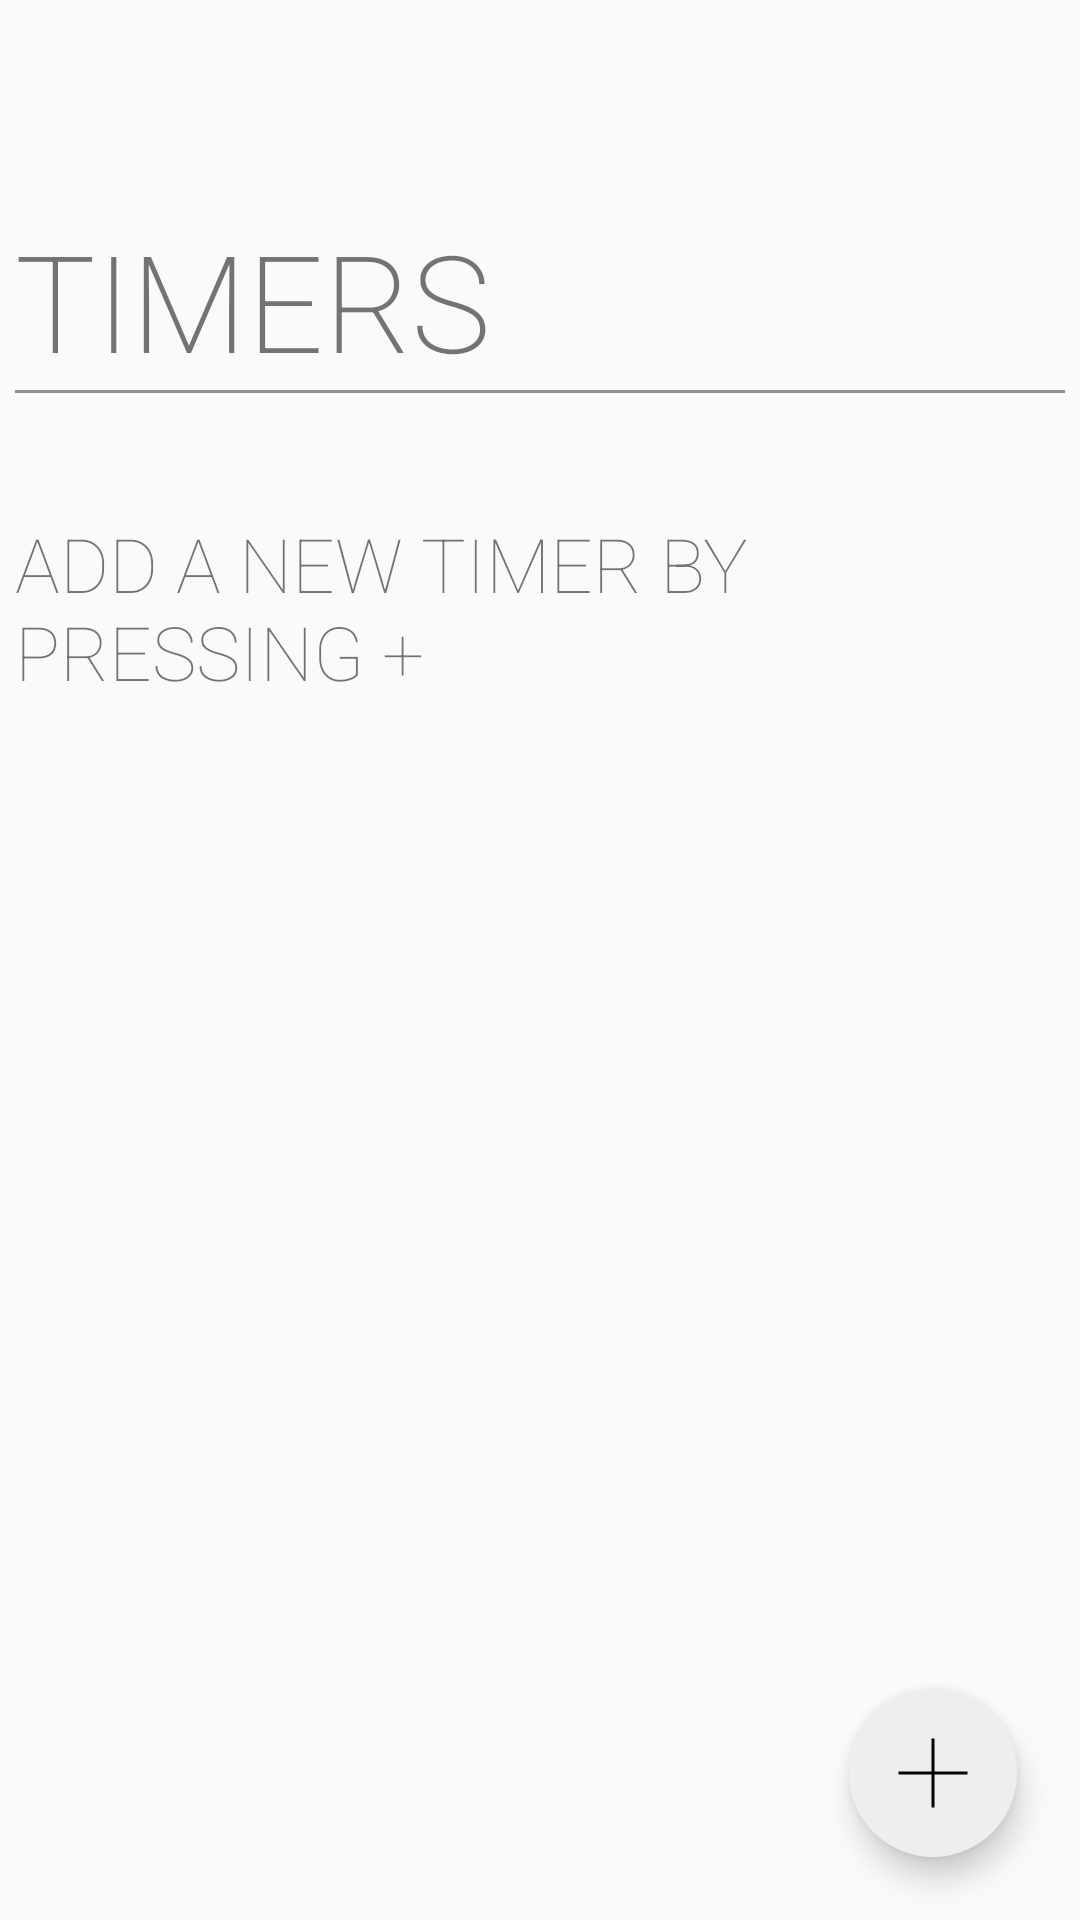

Where icons sit on this 1080*1920 app screen, as box(x1, y1, x2, y2):
fab: box(849, 1689, 1017, 1857)
